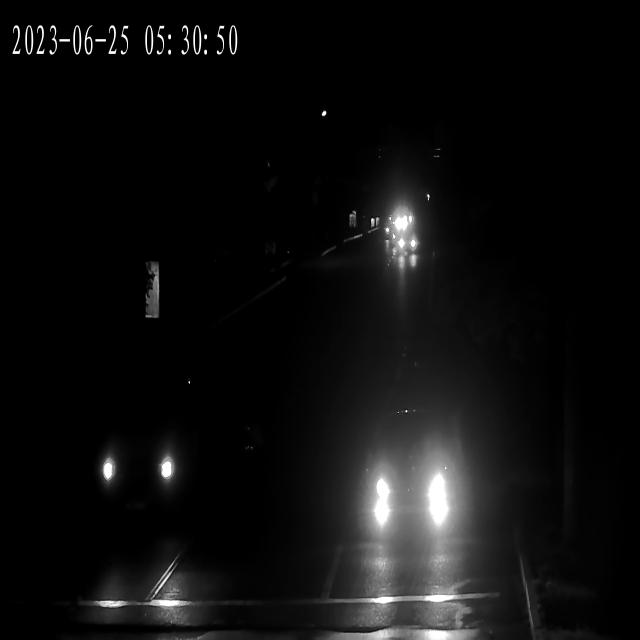Car: (95, 382, 196, 513), (367, 418, 462, 537), (395, 232, 422, 260), (381, 214, 400, 245), (396, 214, 414, 227)
